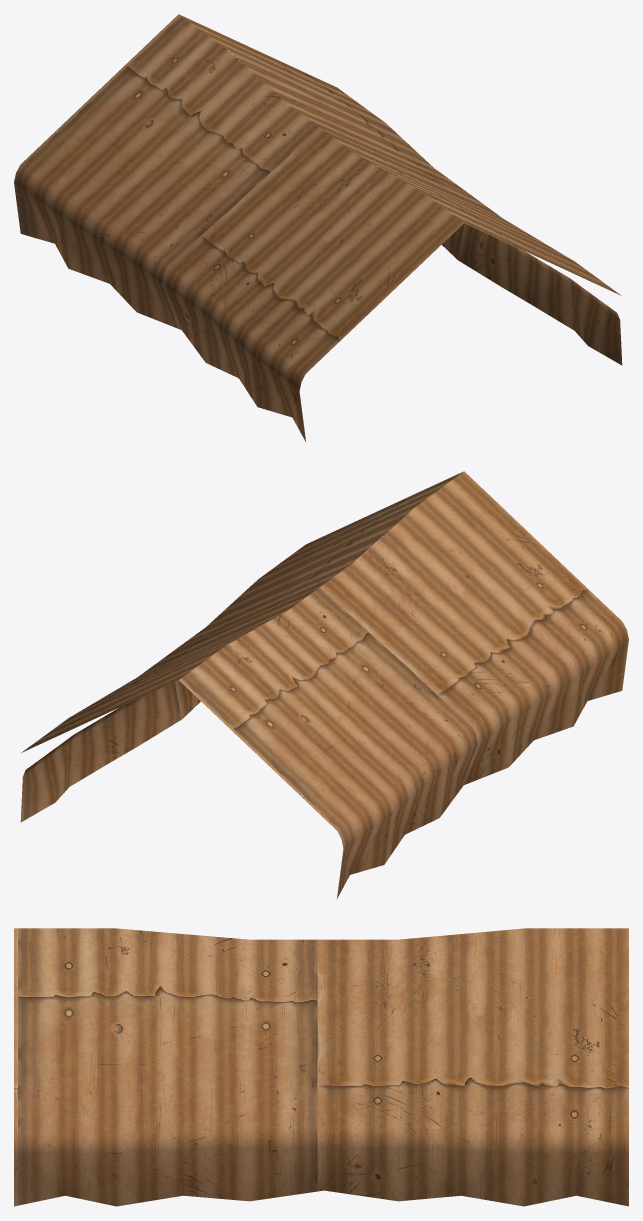
The model's file is SM_roof_06.glb.
The picture shows the model from 3 angles, top to bottom: view 1: azimuth 30°, elevation 25°; view 2: azimuth 150°, elevation 25°; view 3: azimuth 270°, elevation 25°; orthographic projection. The views are drawn at different scales.
Parts seen in each view (by area): view 1: SM_roof_06; view 2: SM_roof_06; view 3: SM_roof_06.
Part boxes in pixels (left/top/right/bottom): SM_roof_06: left=14, top=14, right=622, bottom=442; SM_roof_06: left=20, top=471, right=628, bottom=899; SM_roof_06: left=14, top=928, right=628, bottom=1206.
Size of the model in its own units: 2.13 by 1.12 by 3.2.
1 material, 1 textured.
